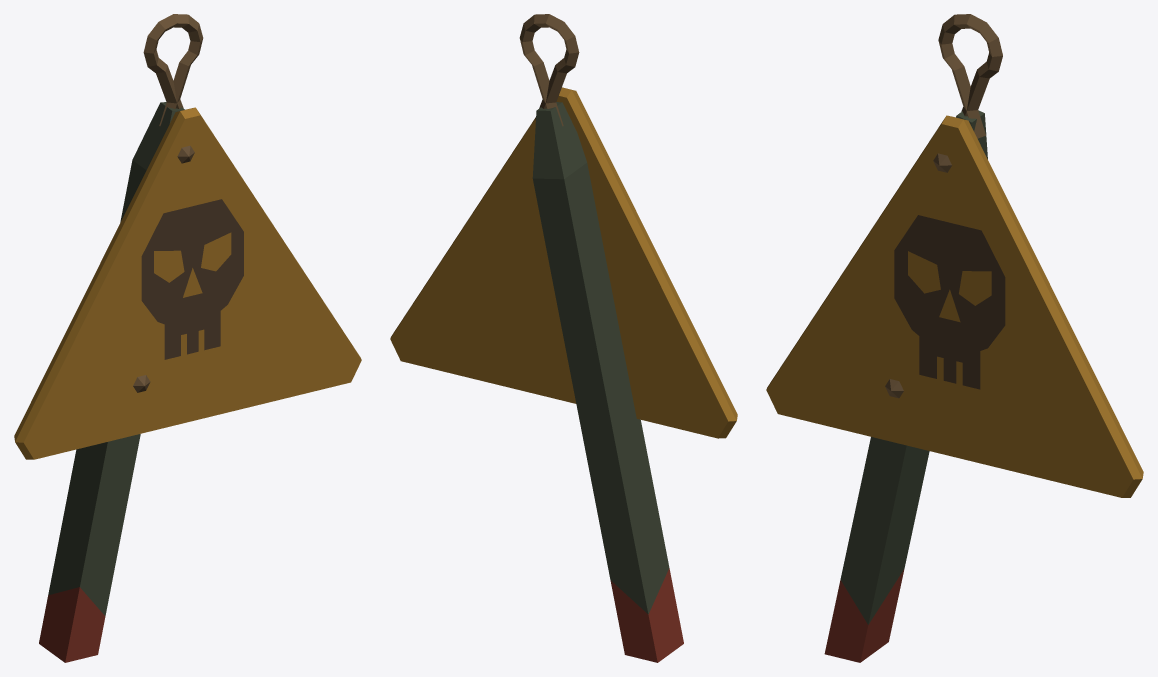
File: minefield-warning-sign-296d9e.glb
3 views of the same model, side by side, from view 1: azimuth 30°, elevation 25°; view 2: azimuth 150°, elevation 25°; view 3: azimuth 330°, elevation 25° (orthographic). The views are drawn at different scales.
Parts seen in each view (by area): view 1: sign-plate, picket; view 2: sign-plate, picket; view 3: sign-plate, picket.
Boxes of the visible parts, box(x1,y1,x2,y2) form: sign-plate: box(14, 107, 361, 459); picket: box(39, 14, 203, 662); sign-plate: box(390, 87, 737, 438); picket: box(519, 14, 683, 662); sign-plate: box(766, 115, 1143, 497); picket: box(824, 14, 1002, 662).
Bounding box in the file's own units: 0.5912 × 0.996 × 0.105.
